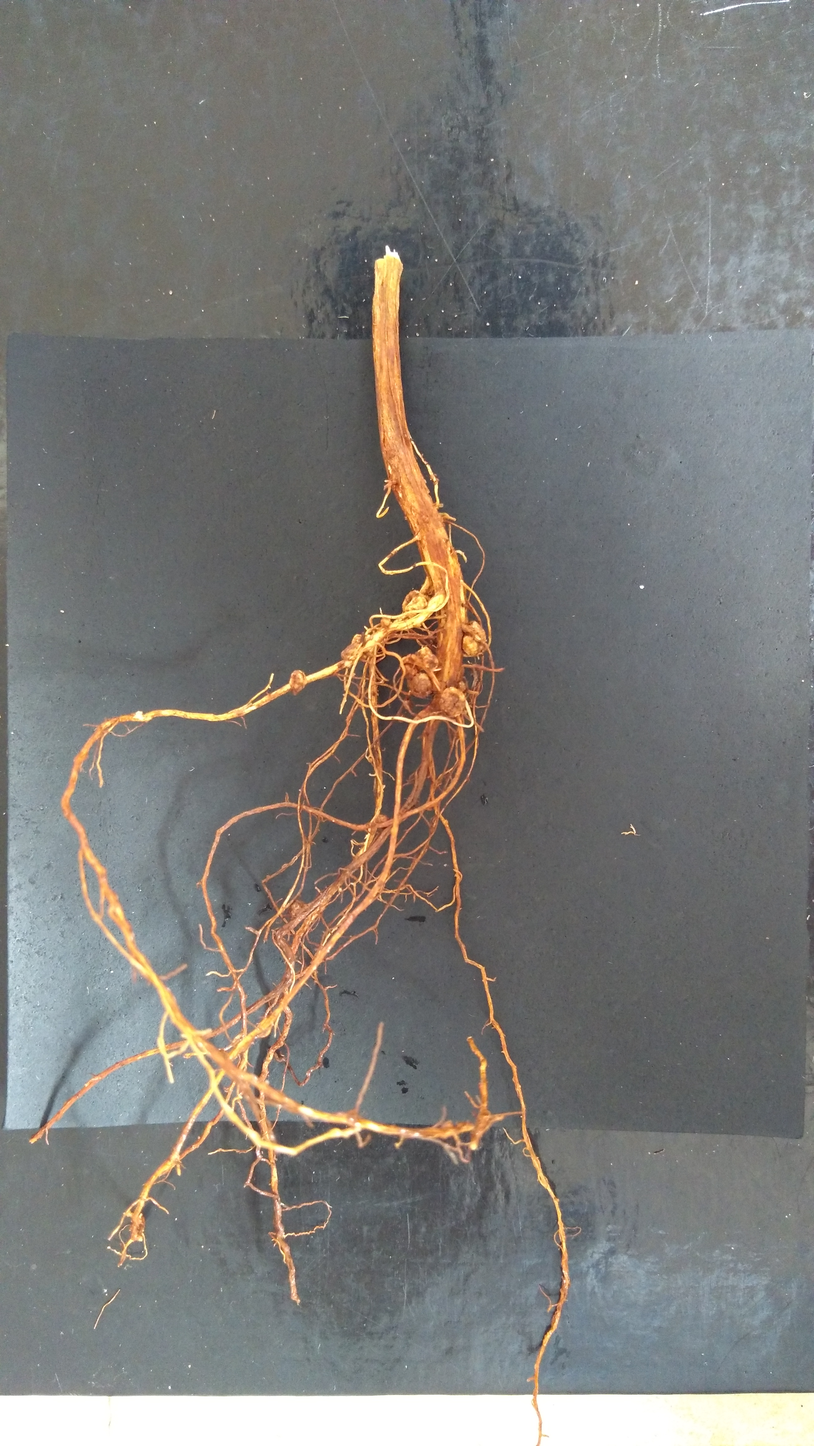nodule: (459, 619, 488, 658), (437, 685, 467, 720), (339, 632, 364, 669), (400, 588, 431, 617), (405, 671, 433, 700), (413, 645, 439, 673), (288, 667, 311, 697), (254, 1017, 274, 1039), (401, 662, 418, 681), (290, 901, 304, 919), (380, 614, 391, 630)
